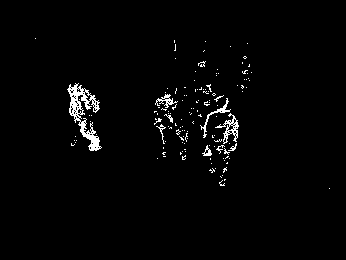person: (203, 96, 239, 188), (68, 83, 102, 152), (154, 93, 178, 159)
